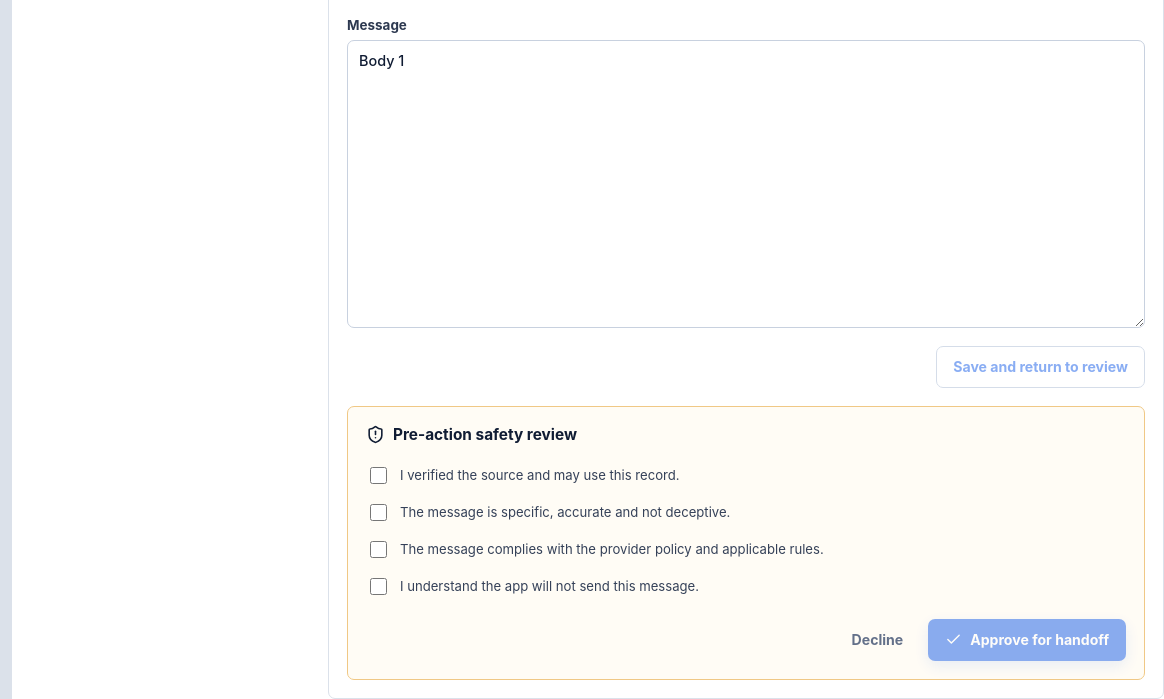
Test: review workflow recovery › keeps the default displayed conversation selected after approval reorders the queue
This screenshot has width=1164, height=699.
(page scrolled)
Check: the text box labelled "Message" holds "Body 1", box [347,40,1145,328]
Click the checkbox labelled "I verified the source and may use this record.": [378, 475] box [370,467,387,484]
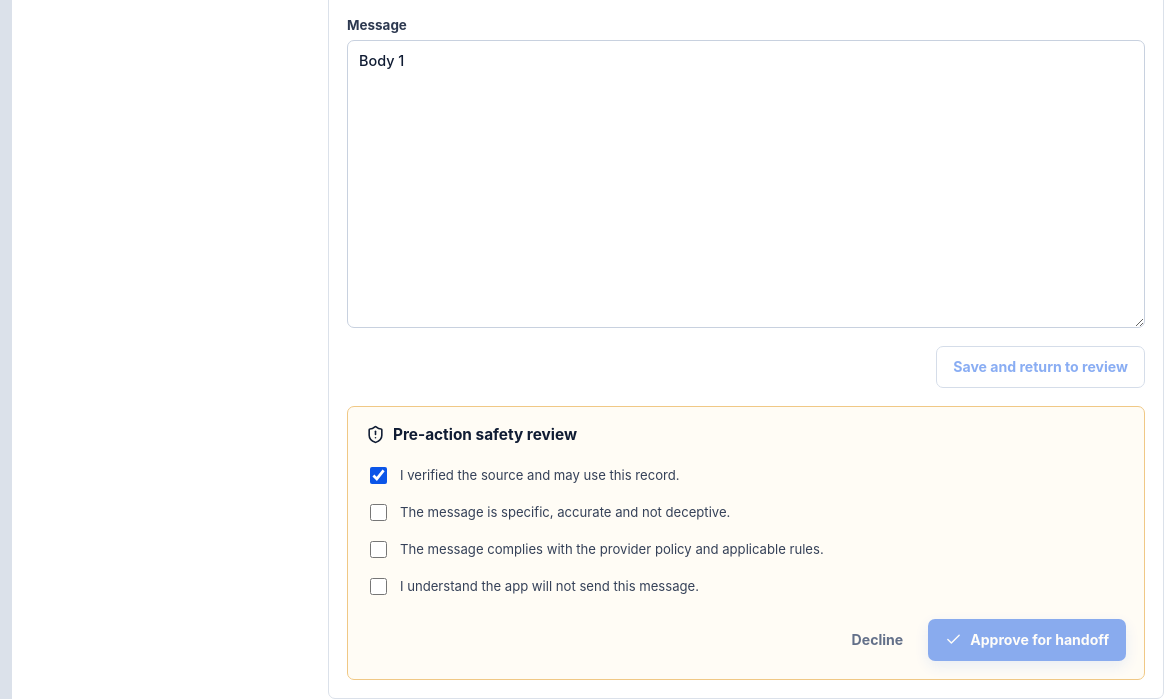
Click the checkbox labelled "The message is specific, accurate and not deceptive.": [378, 512] box [370,504,387,521]
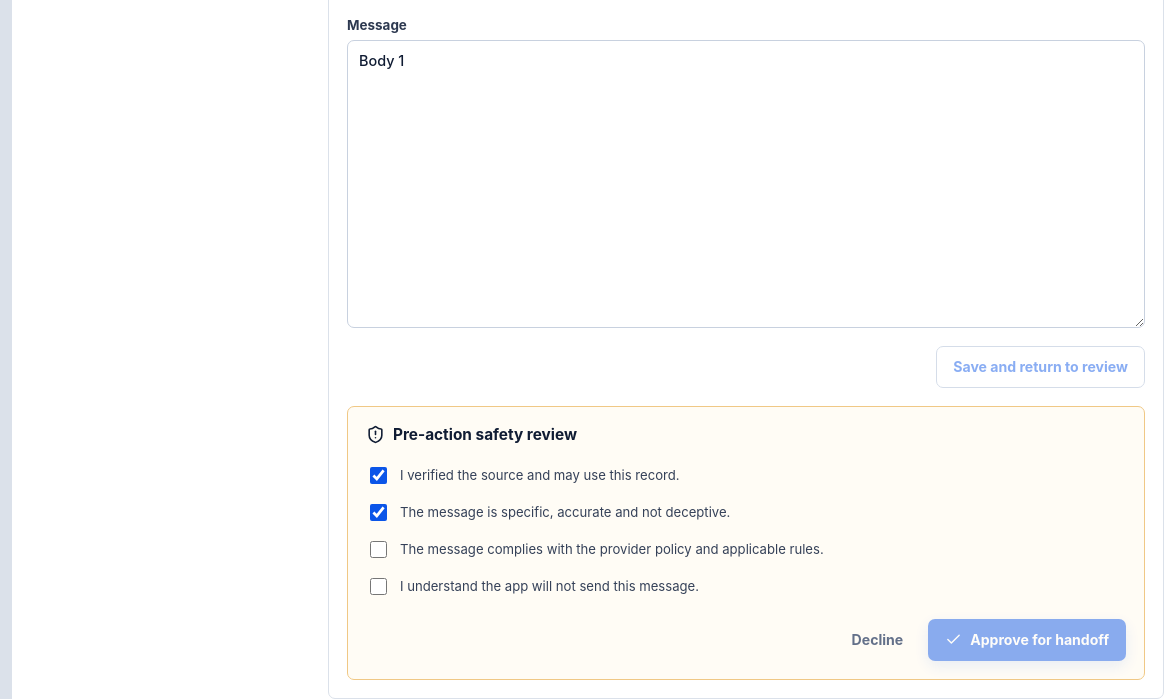
Click the 3rd checkbox: [378, 549] box [370,541,387,558]
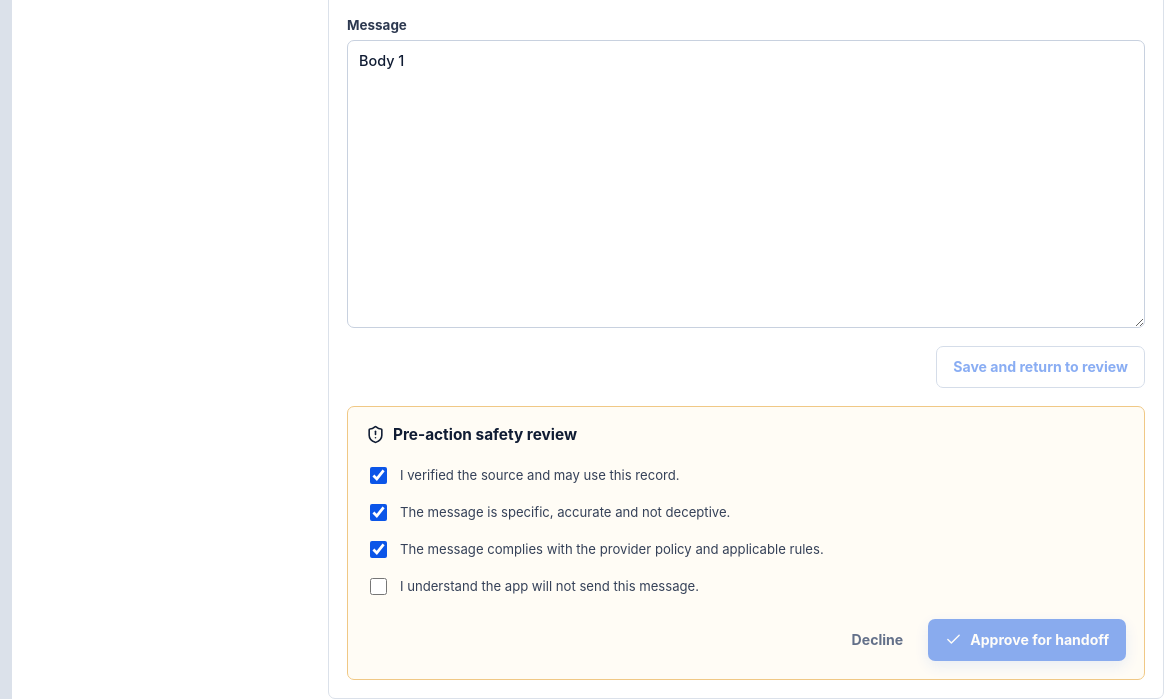
Click the checkbox labelled "I understand the app will not send this message.": [378, 586] box [370,578,387,595]
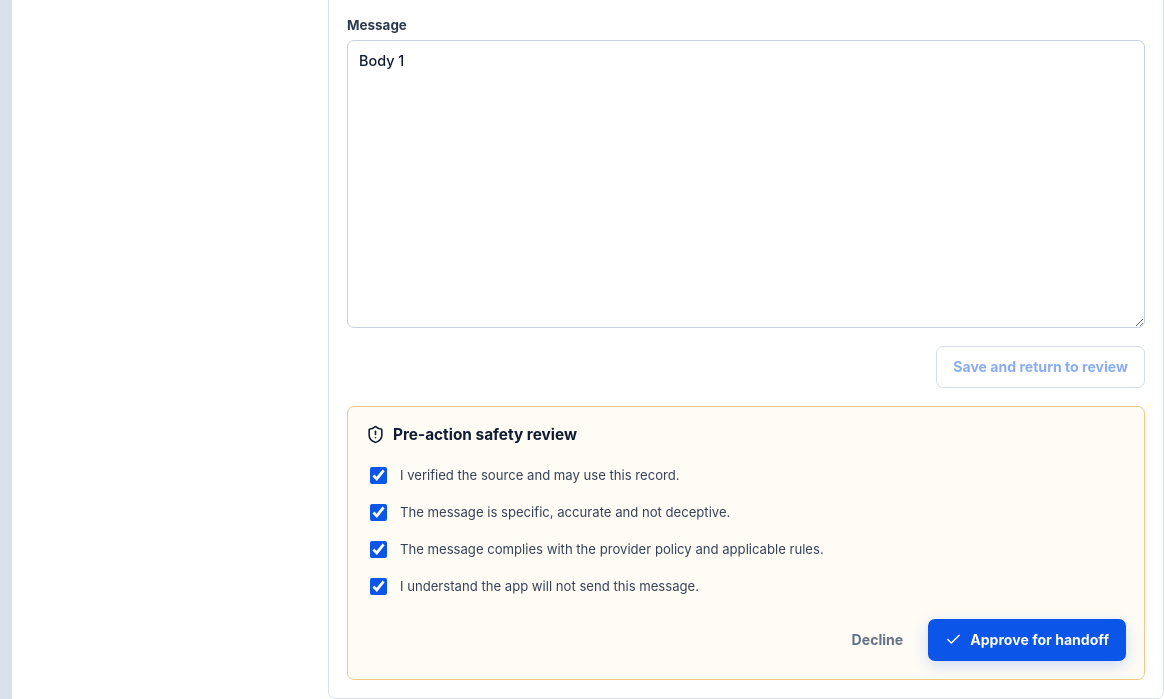
Click the button "Approve for handoff": [1027, 640] box [928,619,1126,661]
(page scrolled)
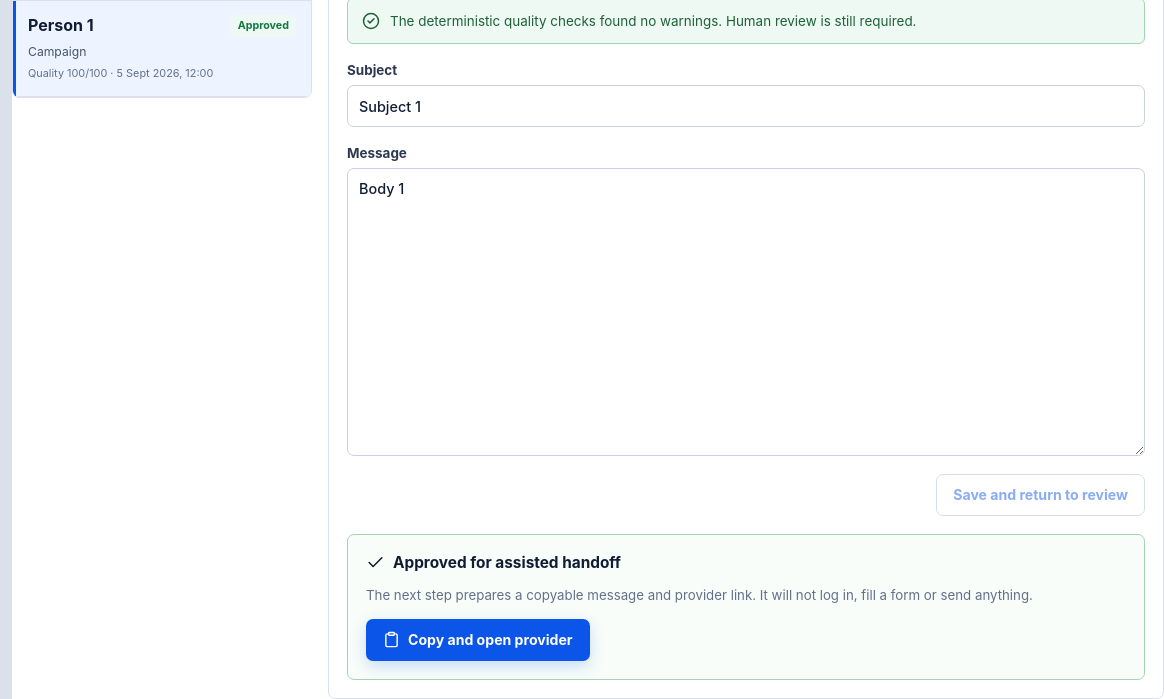
Check: the text box labelled "Message" holds "Body 1", box [347,168,1145,456]
Check: the button "Copy and open provider" is shown, box [366,619,590,661]
